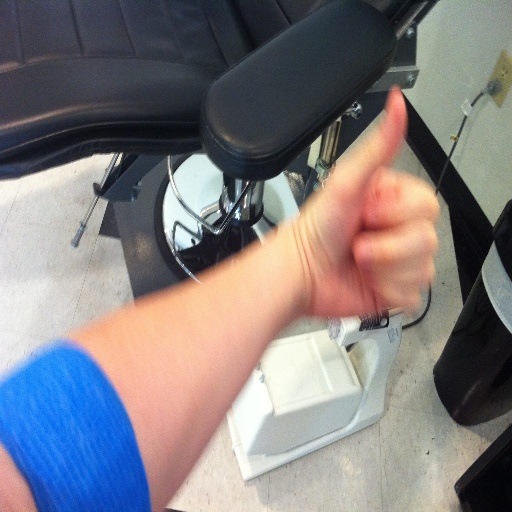hand: (280, 129, 451, 327)
